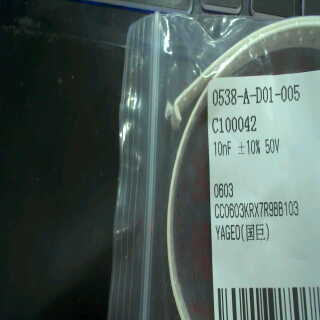10nF: (211, 138, 235, 157)
